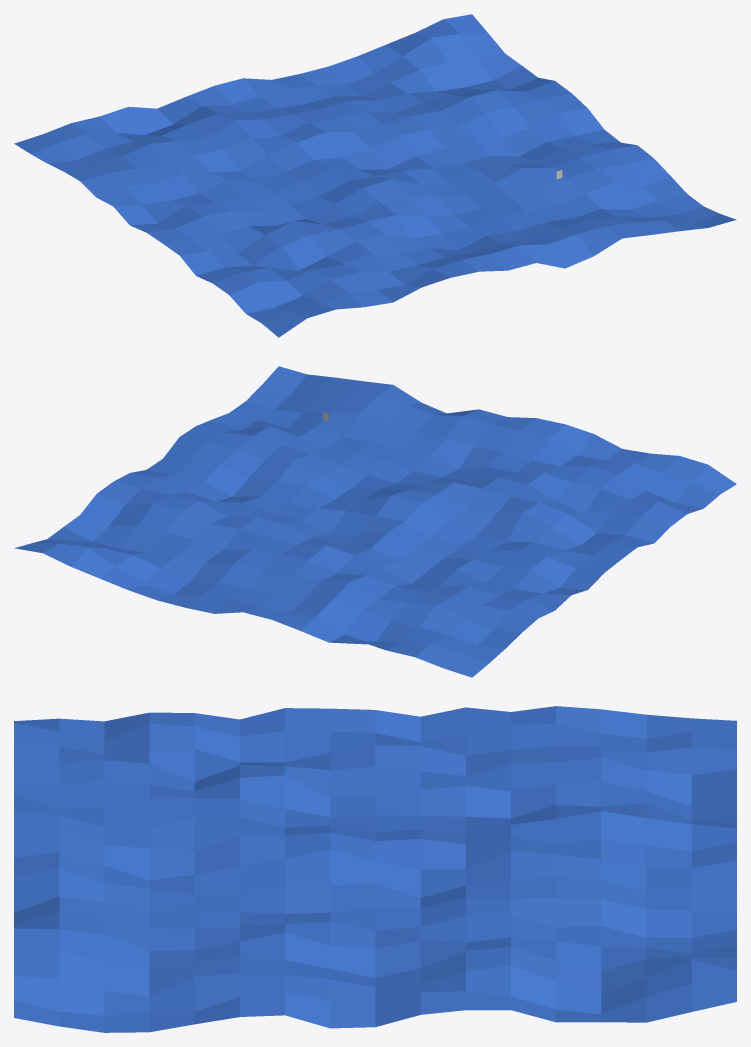
The model's file is mar (1).fbx.
3 views of the same model, one above another, from view 1: azimuth 30°, elevation 25°; view 2: azimuth 150°, elevation 25°; view 3: azimuth 270°, elevation 25° (orthographic). The views are drawn at different scales.
Visible parts, largest first — view 1: Plane; view 2: Plane; view 3: Plane.
Boxes of the visible parts, x1=… form: Plane: x1=14, y1=14, x2=736, y2=337; Plane: x1=14, y1=366, x2=736, y2=677; Plane: x1=14, y1=706, x2=736, y2=1032.
Size of the model in its own units: 28.87 by 2.51 by 28.9.
